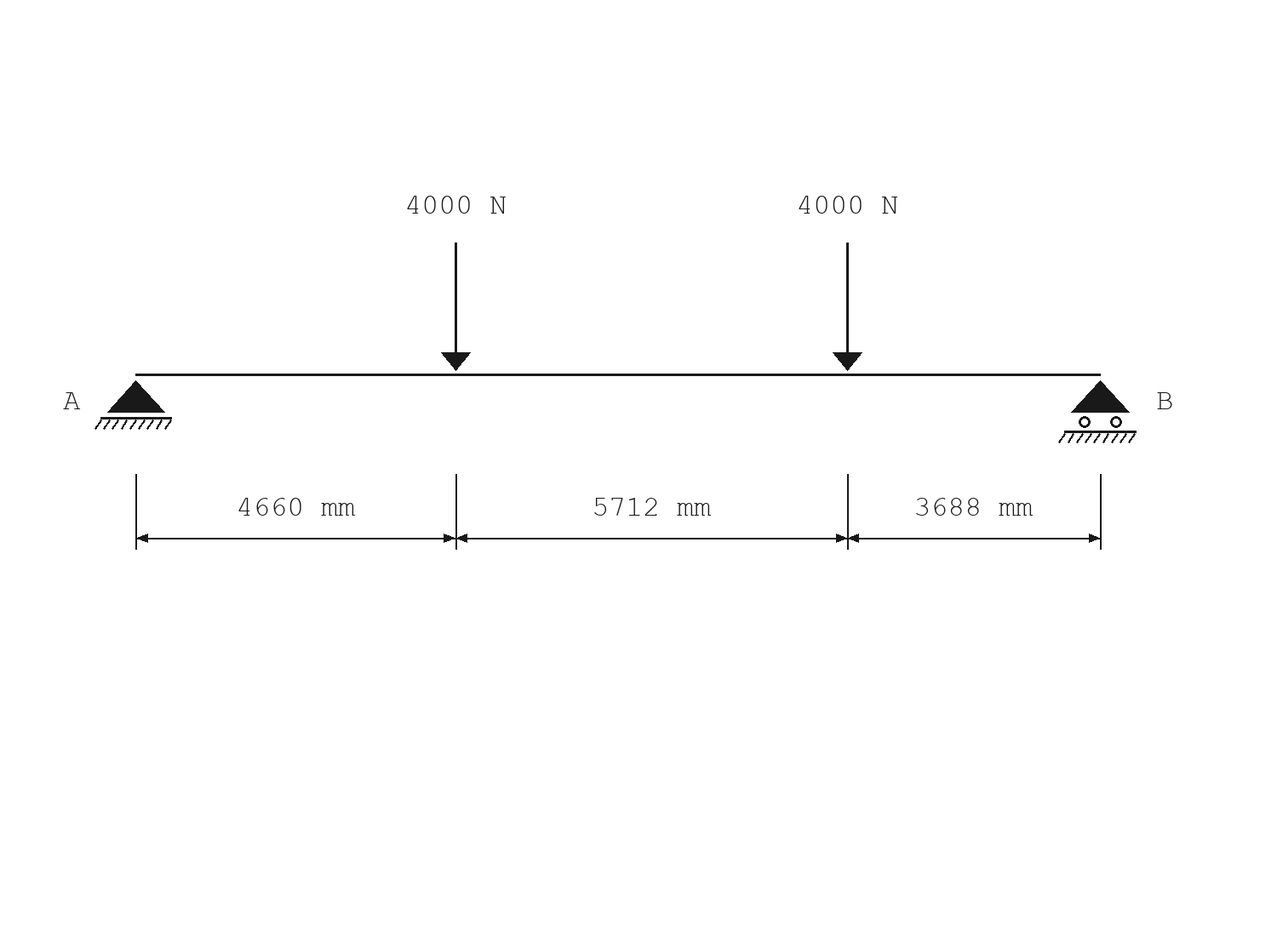pin_support: (94, 380, 172, 430)
point_load: (441, 243, 471, 371), (833, 243, 862, 371)
roller_support: (1058, 380, 1137, 443)
